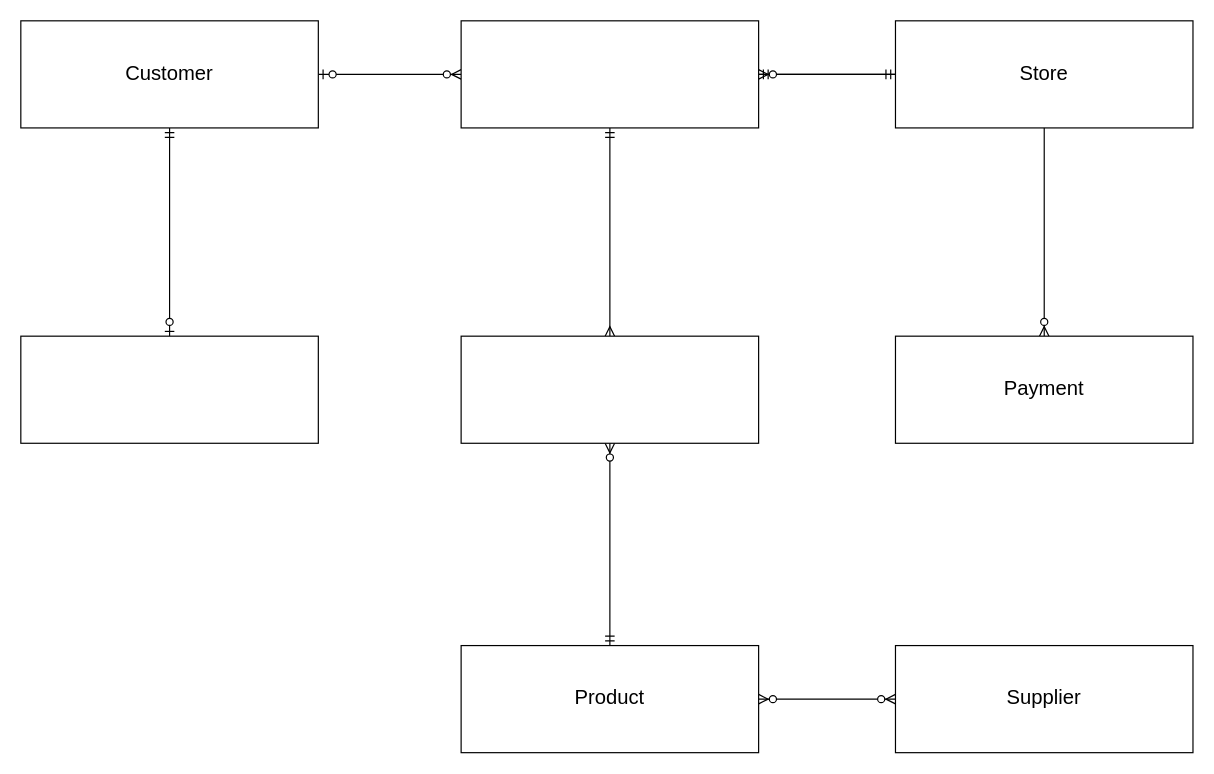
The diagram is 1214 pixels wide and 774 high, and some of its shapes have lost their labels. Here are the shapes that lost their labels. From the top down, the centre of each, then its label:
At (x=609, y=74): "Order".
At (x=169, y=389): "LoyaltyAccount".
At (x=609, y=389): "OrderLine".
